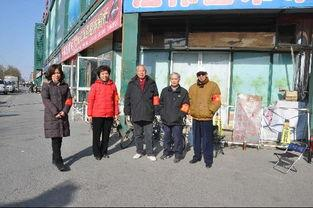up: (188, 69, 225, 169), (41, 66, 73, 170), (121, 66, 157, 158), (85, 64, 118, 161), (158, 70, 187, 162)
